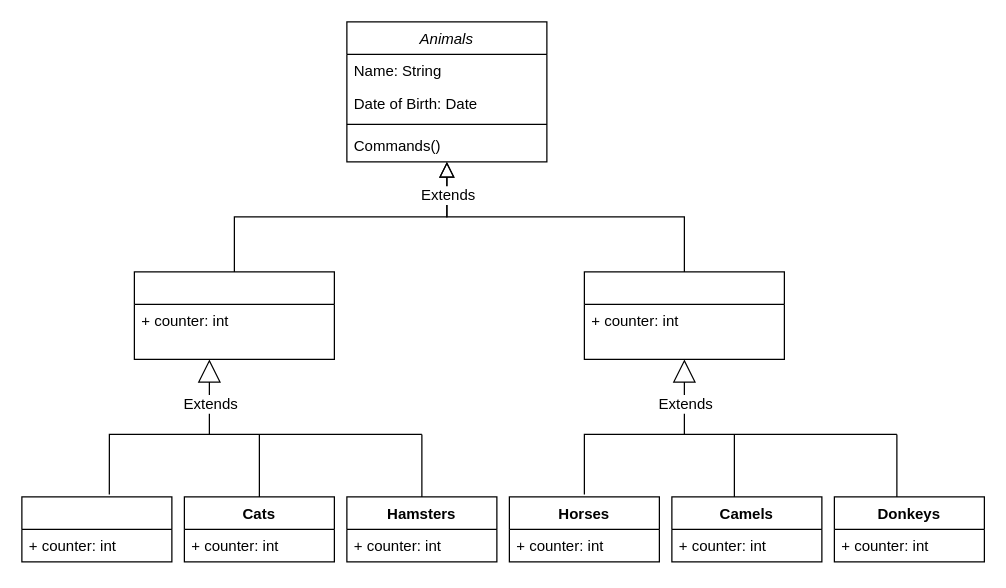
This 1006x588 diagram has some shape labels left out. The box of each missing label's shape, as (x1, y1, x2, y2) in pixels:
Dogs: (21, 496, 172, 562)
Pack animals: (583, 271, 784, 359)
Pets: (133, 271, 334, 359)
